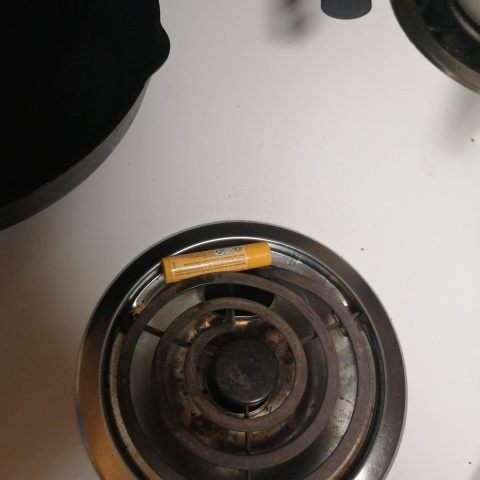chapstick: (162, 240, 274, 285)
